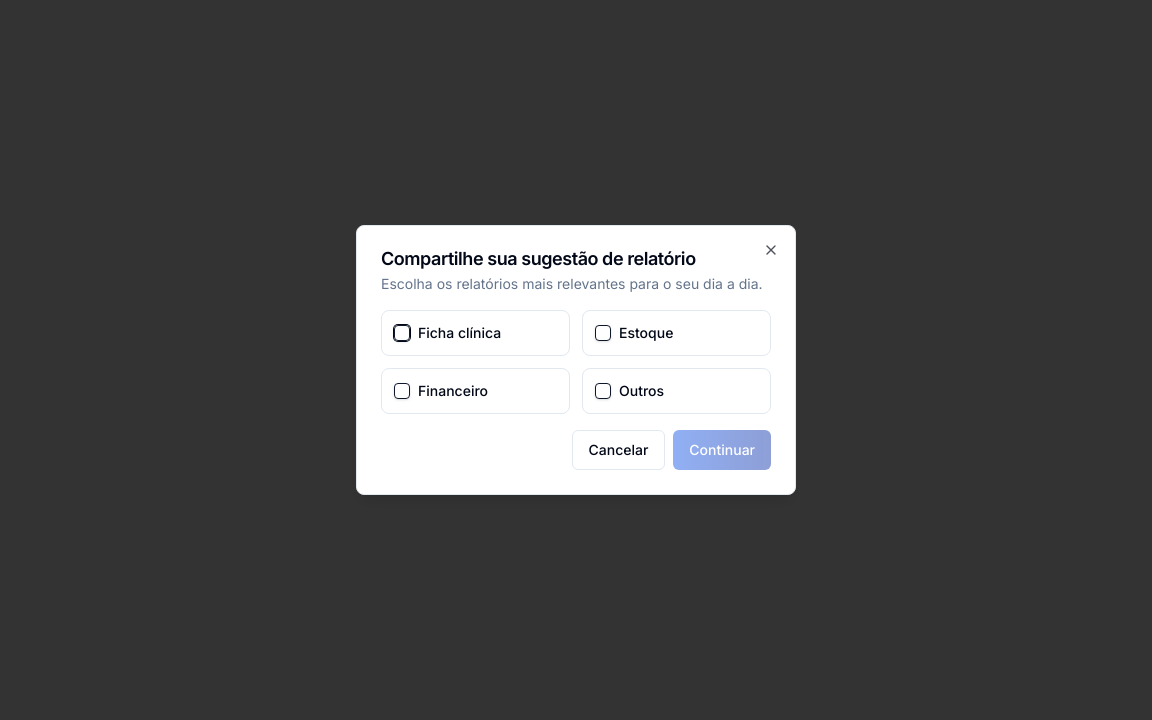
Test: SuggestReportDialog › mantém 'Continuar' desabilitado até escolher um tema
expect the button "Continuar" is disabled: met, box [673,430,771,470]
Click the checkbox named "Ficha clínica" at (402, 333), box [394,325,410,341]
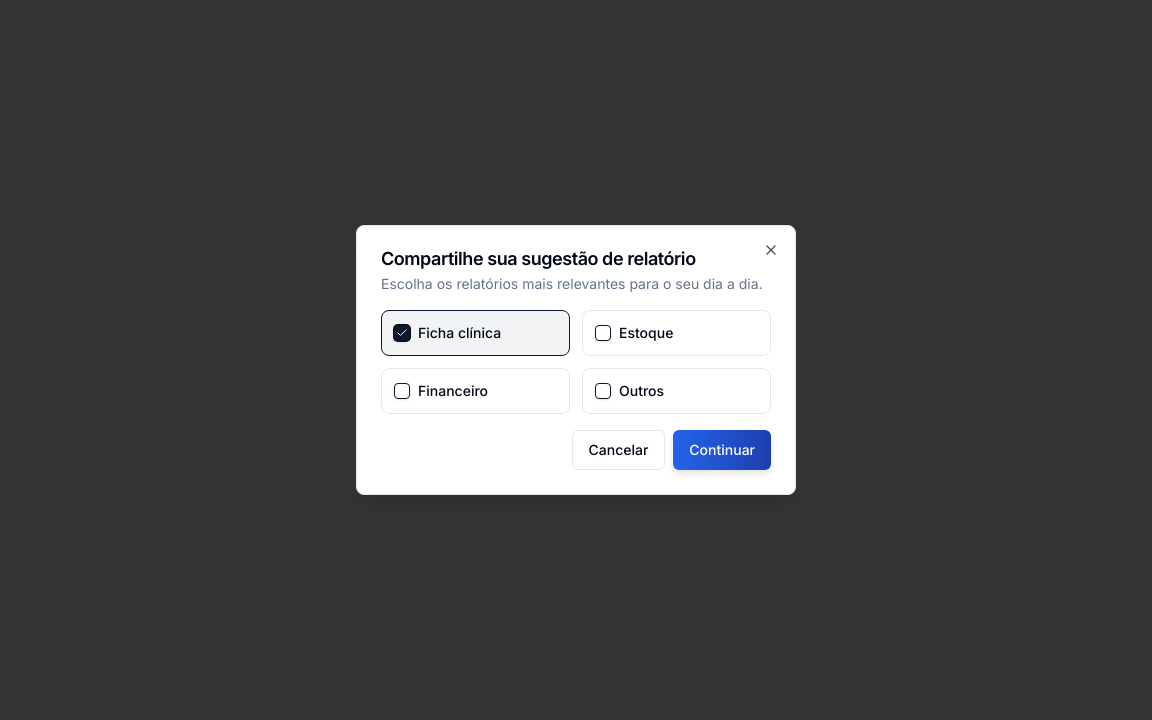
expect the button "Continuar" is enabled: met, box [673,430,771,470]
